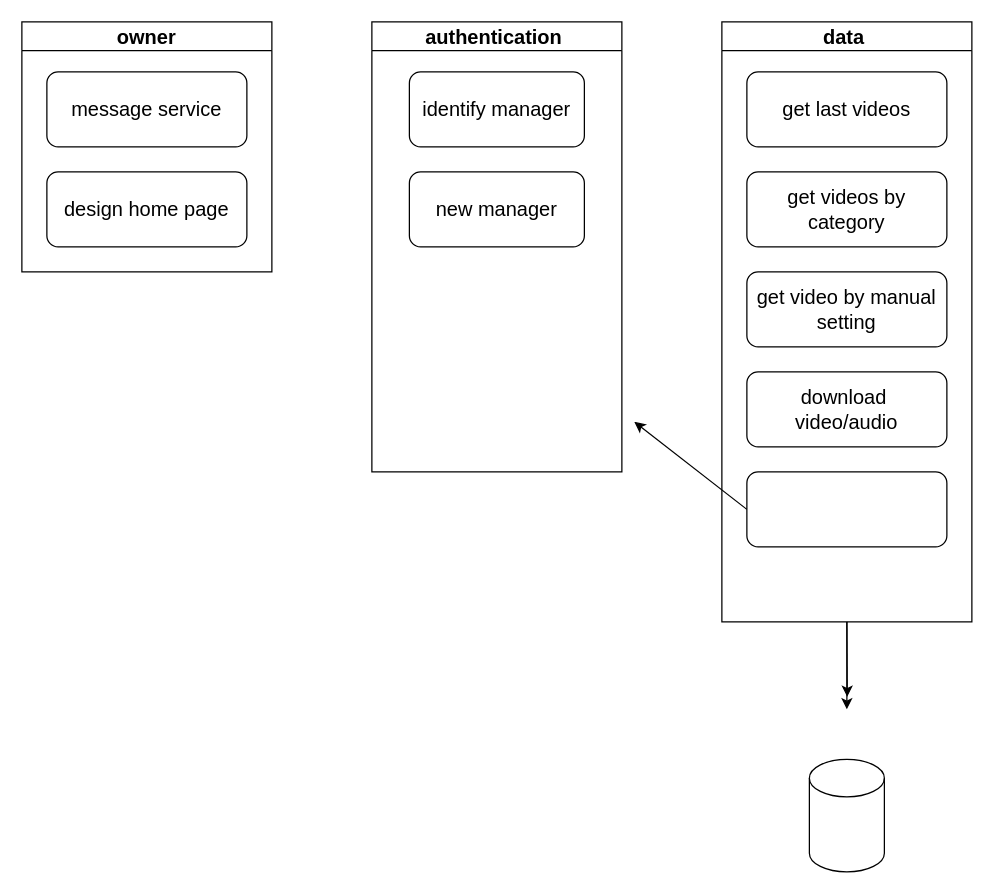
This 994x894 diagram has some shape labels left out. Each missing label, with the centre of its shape:
sql: pixel 846 815
upload videos: pixel 846 509
